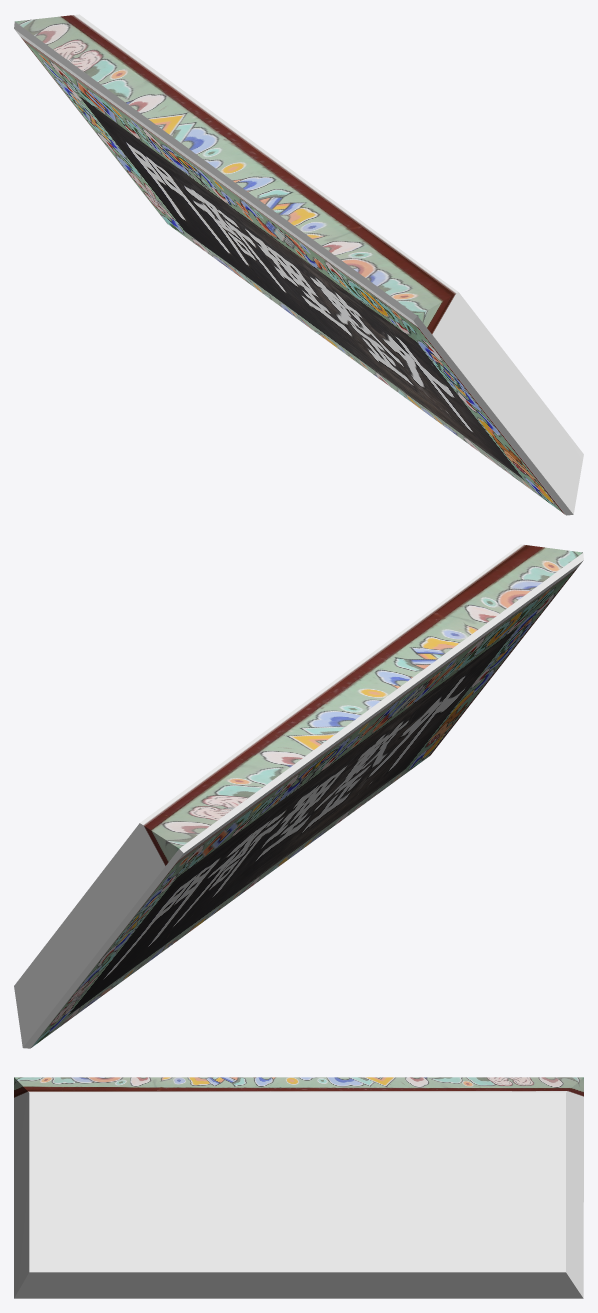
The model's file is SM_R_Sign_OR.fbx.
The picture shows the model from 3 angles, top to bottom: view 1: azimuth 30°, elevation 25°; view 2: azimuth 150°, elevation 25°; view 3: azimuth 270°, elevation 25°; orthographic projection. The views are drawn at different scales.
Parts seen in each view (by area): view 1: SM_R_Sign_OR; view 2: SM_R_Sign_OR; view 3: SM_R_Sign_OR.
Boxes of the visible parts, x1,y1,x2,y2 form: SM_R_Sign_OR: (14, 14, 583, 515); SM_R_Sign_OR: (14, 544, 583, 1048); SM_R_Sign_OR: (14, 1077, 583, 1298).
Size of the model in its own units: 25.24 by 97.85 by 32.3.
Materials: 1 (1 with a texture image).
